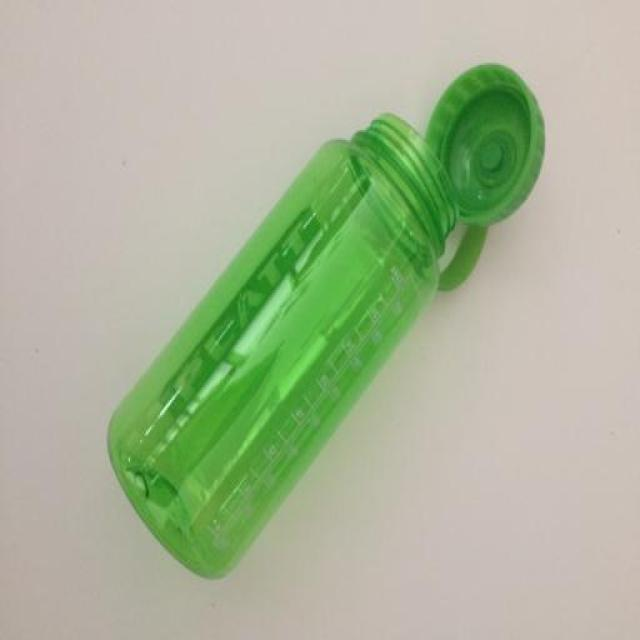Plastic: (106, 63, 546, 583)
